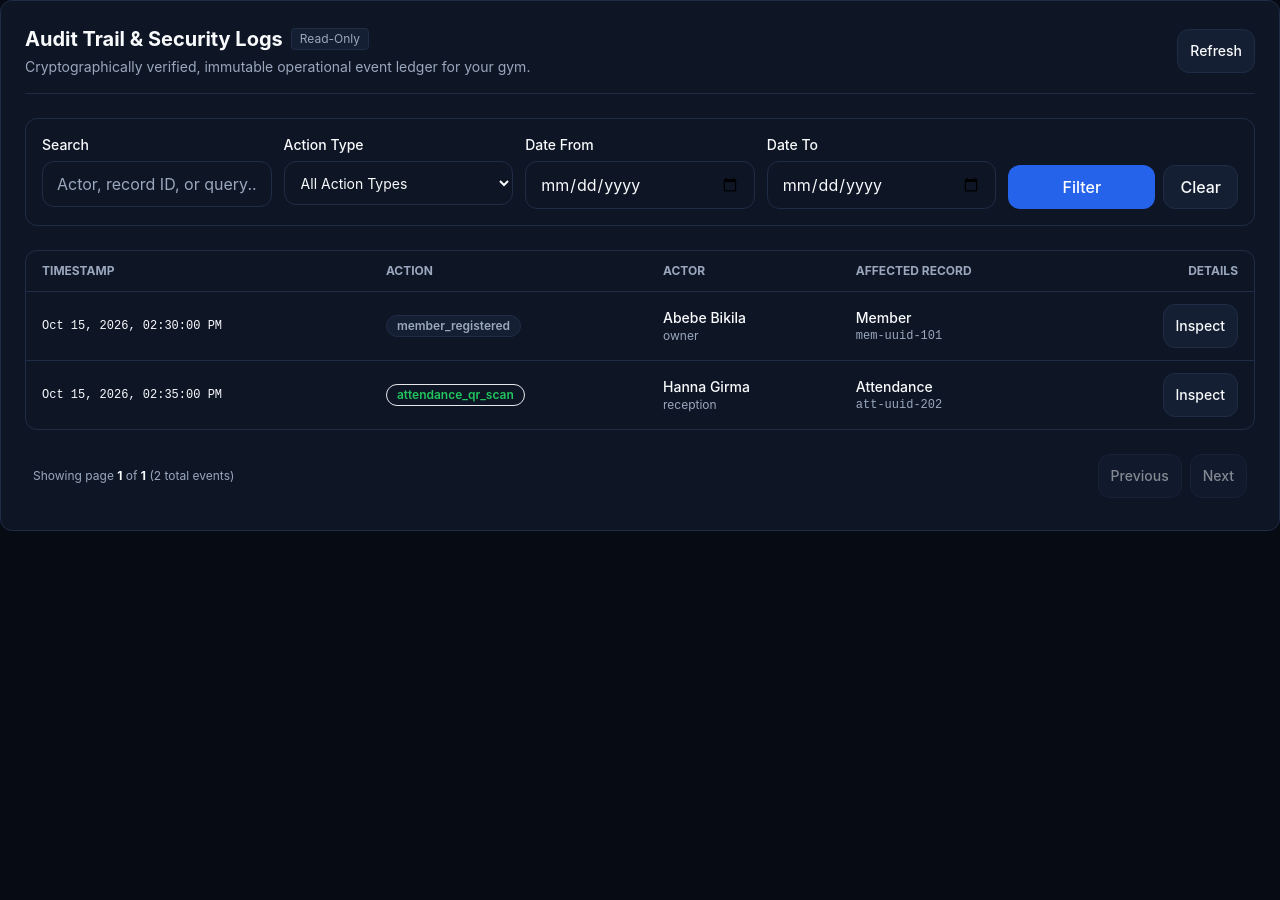
Test case: Sprint 9a: Audit Log Viewer UI Component › opens metadata inspector modal and displays payload
Note: Click first inspect button
Click the button "Inspect" in the row of "Oct 15, 2026, 02:30:00 PM".
click(1200, 326)  # box 1162,304 -> 1238,348
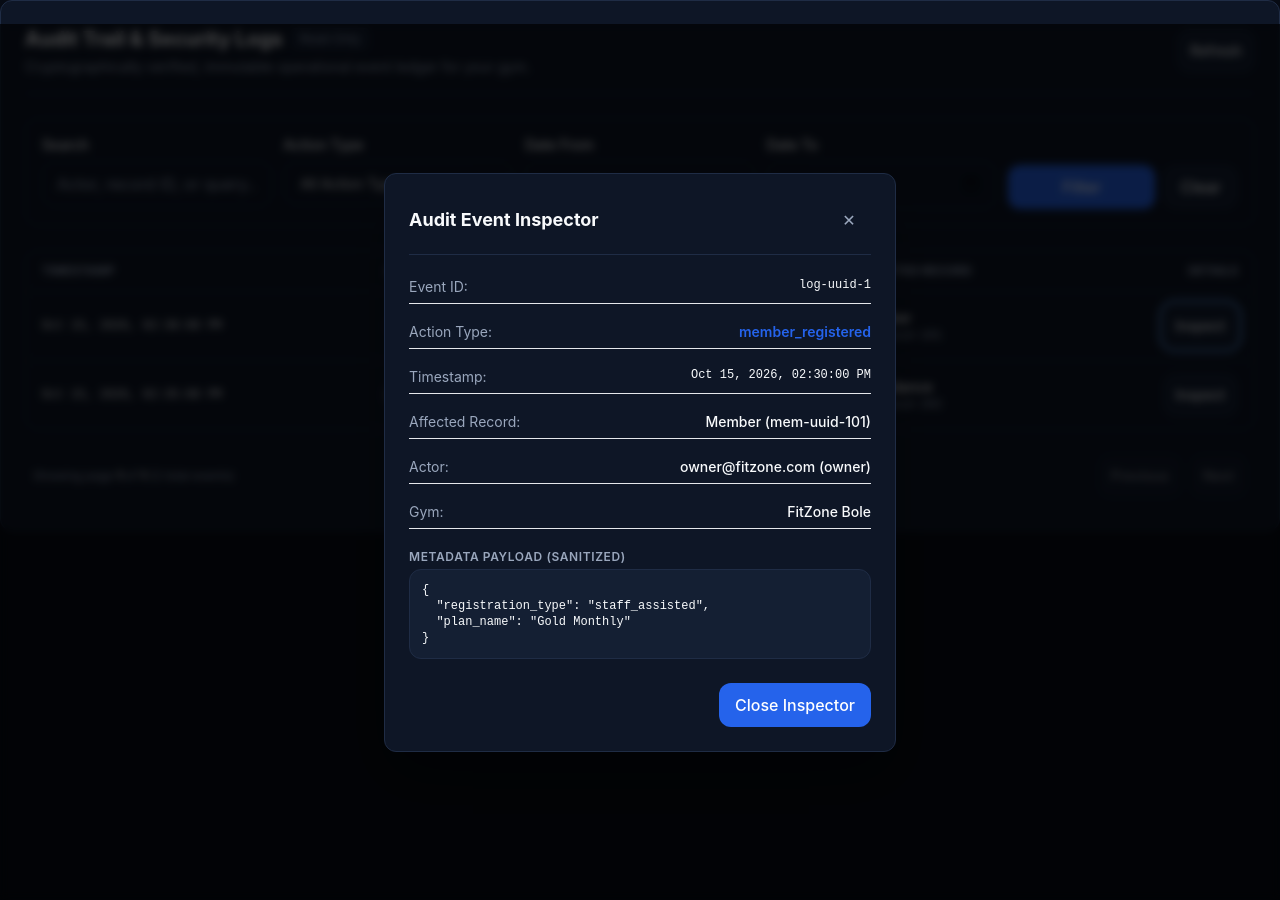
Check: the heading "Audit Event Inspector" is shown, box 409,206 -> 599,234
Check: the text "log-uuid-1" is shown, box 799,276 -> 871,296
Check: the text "Gold Monthly" is shown, box 422,582 -> 710,644
Note: Close modal
Click the button "Close Inspector".
click(795, 704)  # box 719,682 -> 871,726
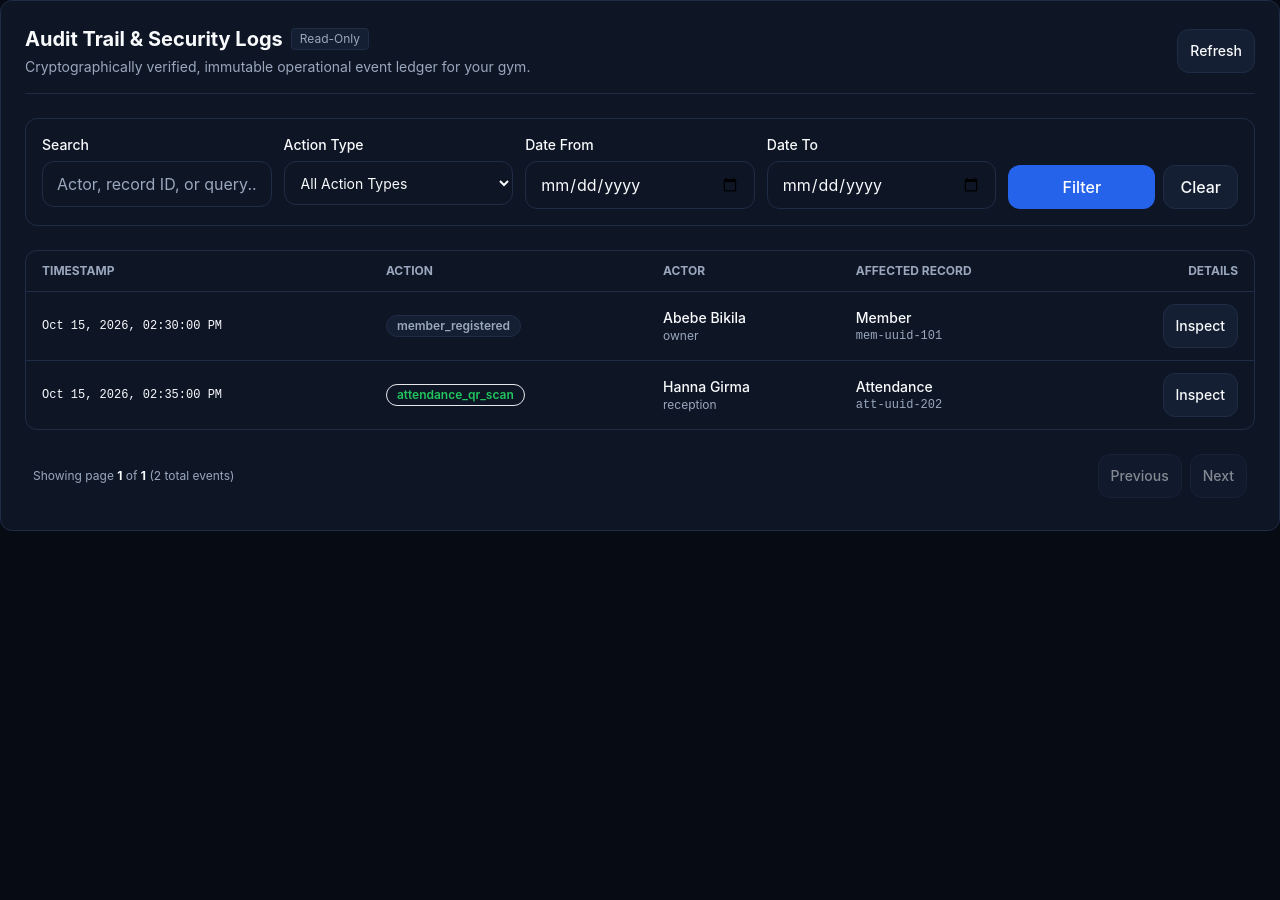
Check: the heading "Audit Event Inspector" is gone
